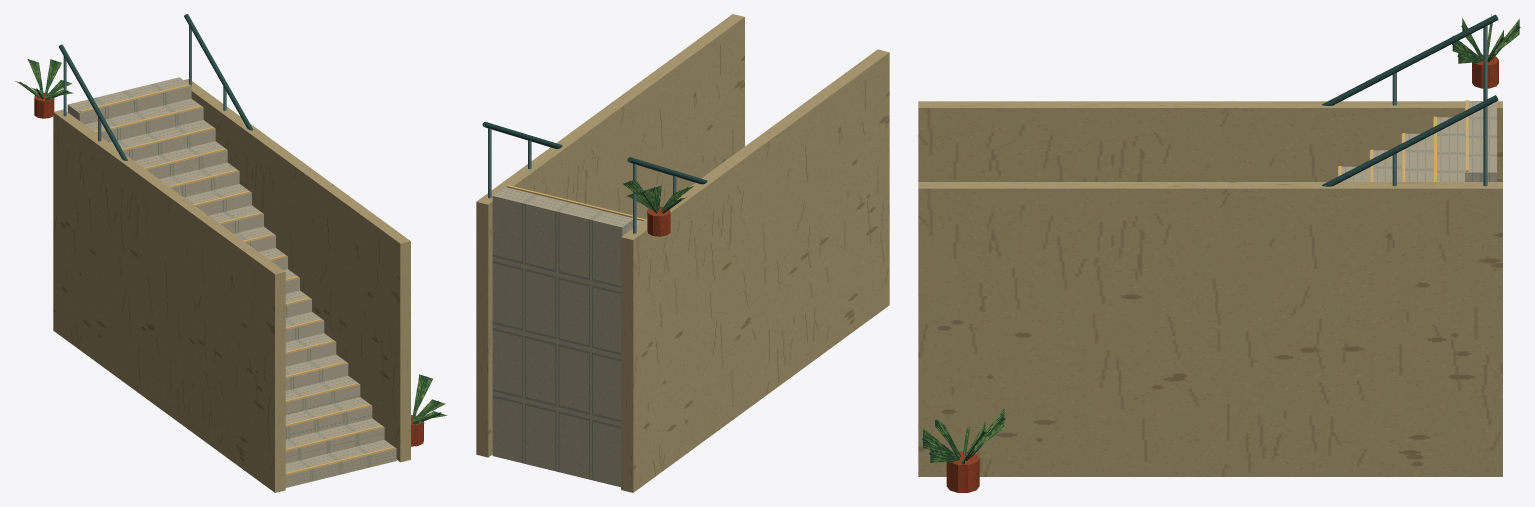
Rendered from stepped-alley.glb.
3 renders of one model, left to right at view 1: azimuth 30°, elevation 25°; view 2: azimuth 150°, elevation 25°; view 3: azimuth 270°, elevation 25°, orthographic. The views are drawn at different scales.
Parts seen in each view (by area): view 1: stepped-alley; view 2: stepped-alley; view 3: stepped-alley.
Boxes of the visible parts, x1,y1,x2,y2 form: stepped-alley: (15,14,446,492); stepped-alley: (476,14,889,492); stepped-alley: (918,14,1520,492).
Size of the model in its own units: 3.1 by 3.67 by 5.3.
1 material, 1 textured.
